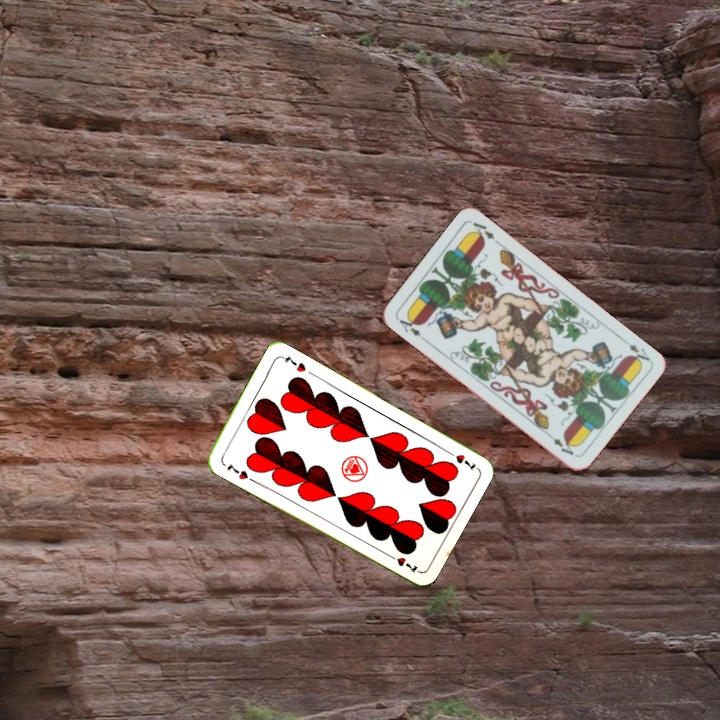EA: (393, 312, 429, 344), (618, 335, 652, 367)
H7: (442, 446, 479, 474), (223, 459, 251, 482)
